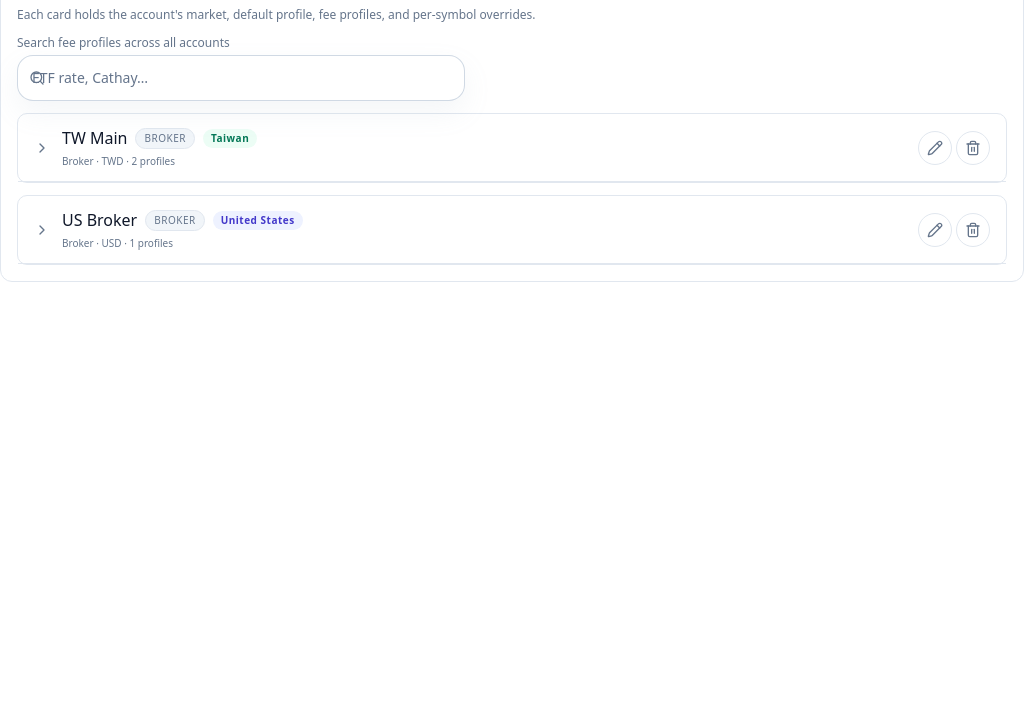
Test: AccountsListSection › scopes market badges, default selectors, and overrides by account
Expected: the text with test id "accounts-card-acc-1-market-badge" reads "Taiwan", [211, 130, 249, 144]
Expected: the text with test id "accounts-card-acc-2-market-badge" reads "United States", [221, 212, 295, 226]
Click the button named "Expand account" next to "TW Main".
click(42, 148)  # box [34, 140, 50, 156]
(page scrolled)
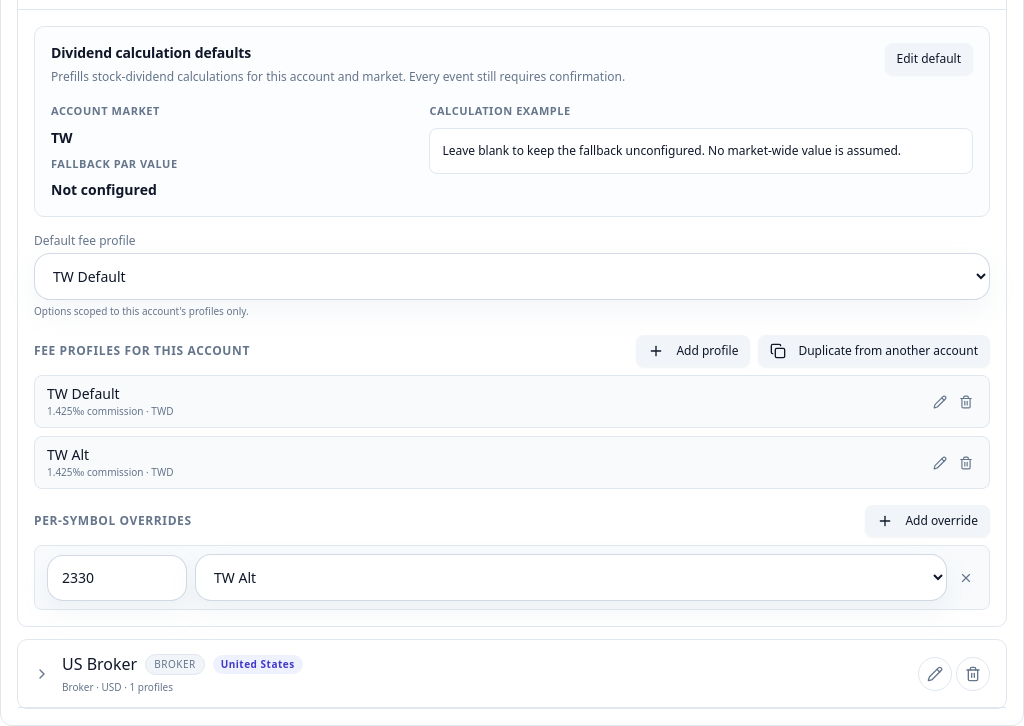
Click the button named "Expand account".
click(42, 674)  # box [34, 666, 50, 682]
(page scrolled)
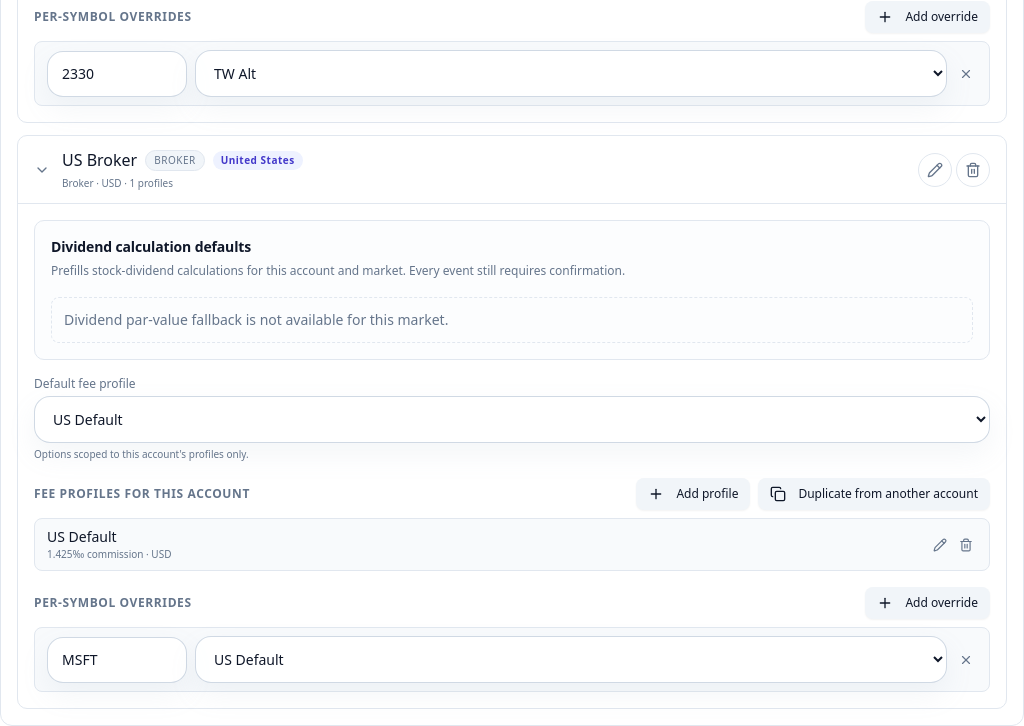
Now the field with test id "accounts-override-ticker-0" holds "2330", box [47, 50, 187, 96]
Now the field with test id "accounts-override-ticker-1" holds "MSFT", box [47, 636, 187, 682]
